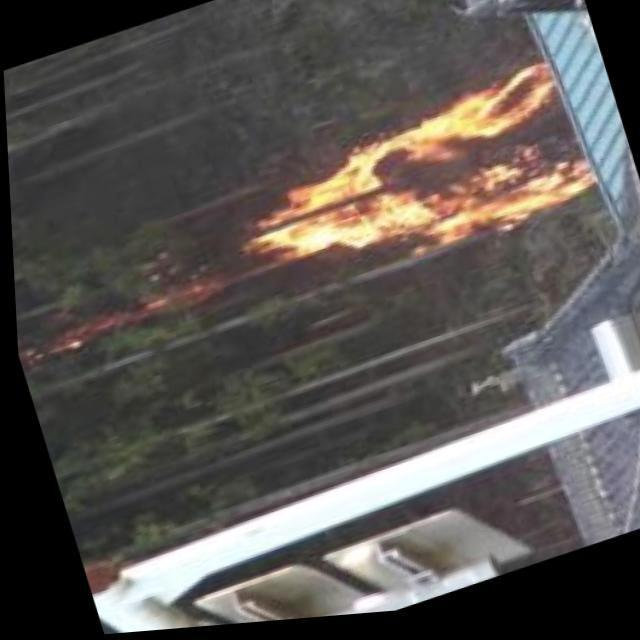fire: (218, 64, 606, 328)
